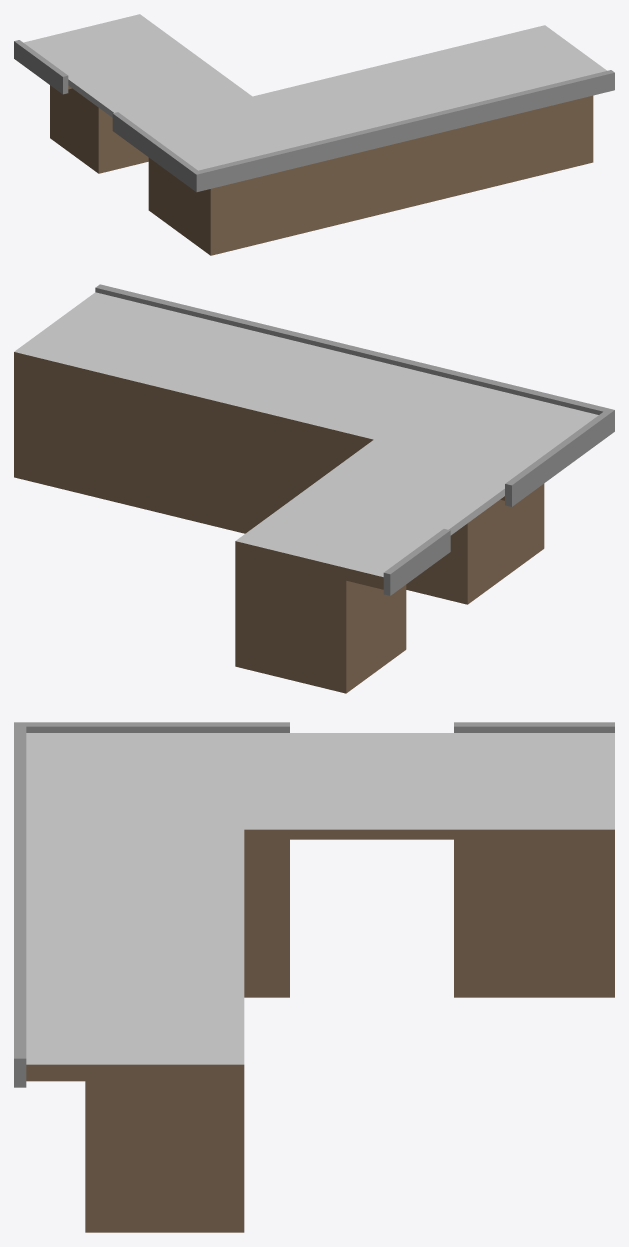
The model's file is desk.fbx.
3 views of the same model, one above another, from view 1: azimuth 30°, elevation 25°; view 2: azimuth 150°, elevation 25°; view 3: azimuth 270°, elevation 25° (orthographic). The views are drawn at different scales.
Visible parts, largest first — view 1: pCube1; view 2: pCube1; view 3: pCube1.
Boxes of the visible parts, x1,y1,x2,y2 form: pCube1: [14, 14, 614, 255]; pCube1: [14, 284, 614, 693]; pCube1: [14, 722, 614, 1232].
Bounding box in the file's own units: 4.29 × 1.04 × 3.24.
